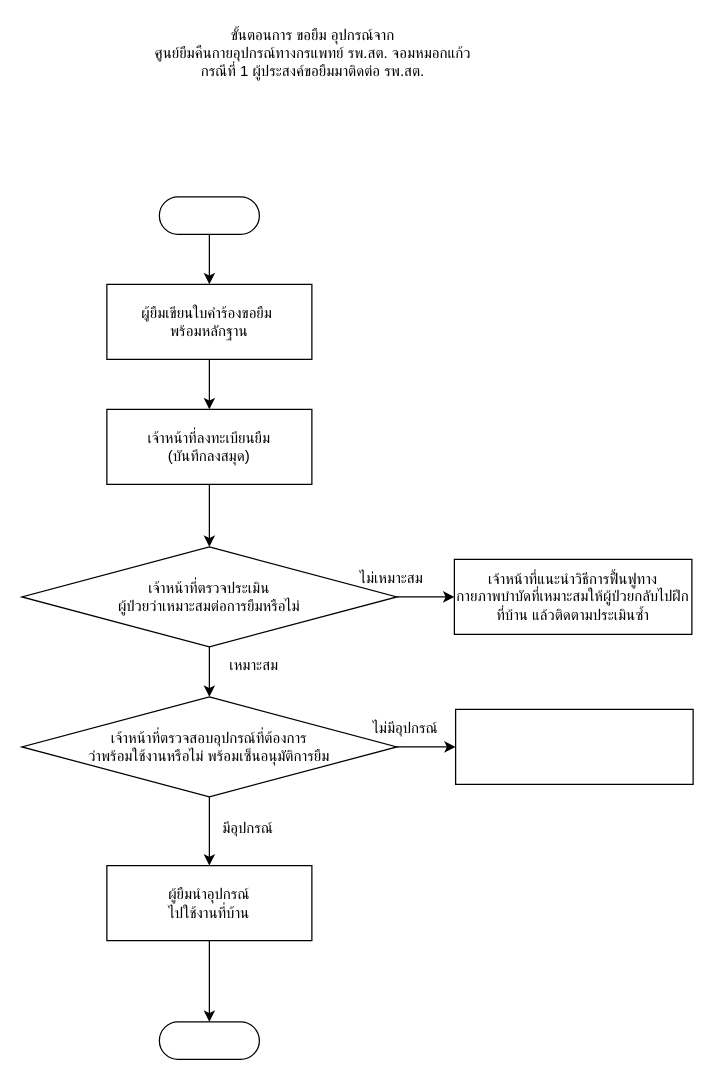
The diagram is 715 pixels wide and 1081 high, and some of its shapes have lost their labels. The shapes that lost their labels are listed below. From the top down, each one's centre as x and y in pixels, then its label:
At point (208, 215): "เริ่ม".
At point (573, 746): "ขอเบอร์โทรศัพท์ติดต่อกลับเมื่อมีอุปกรณ์พร้อมใช้งาน".
At point (208, 1040): "จบการทำงาน".
